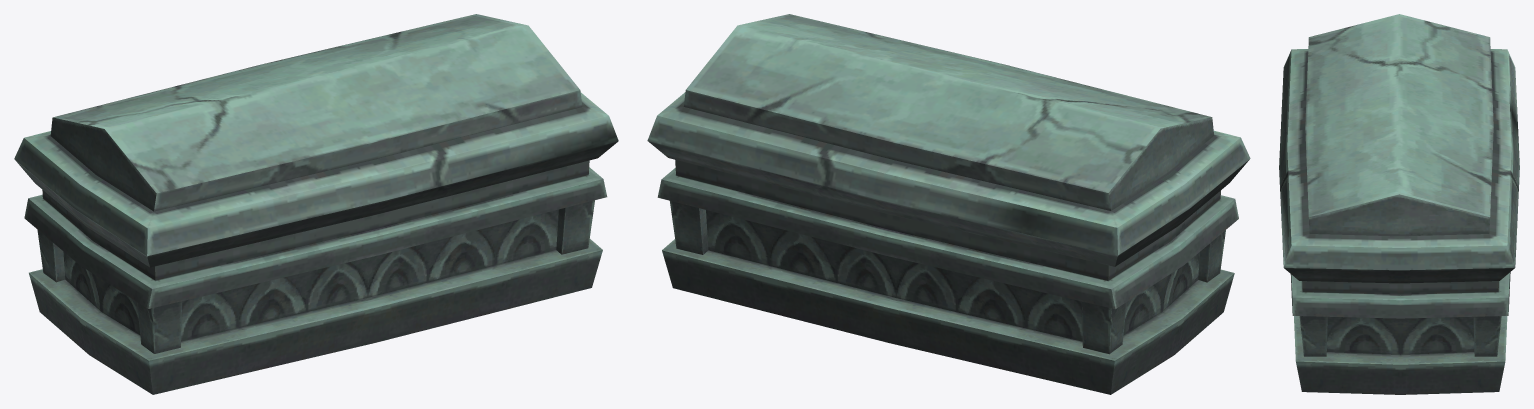
The model's file is crypt_tomb01.fbx.
3 views of the same model, side by side, from view 1: azimuth 30°, elevation 25°; view 2: azimuth 150°, elevation 25°; view 3: azimuth 270°, elevation 25° (orthographic). The views are drawn at different scales.
Parts seen in each view (by area): view 1: tomb_stonework; view 2: tomb_stonework; view 3: tomb_stonework.
Part boxes in pixels (box(x1,y1,x2,y2)): tomb_stonework: box(14, 14, 618, 394); tomb_stonework: box(647, 14, 1250, 394); tomb_stonework: box(1279, 14, 1519, 394).
Bounding box in the file's own units: 2.93 × 1.29 × 1.45.
